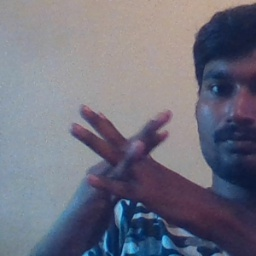W: (63, 95, 188, 226)
